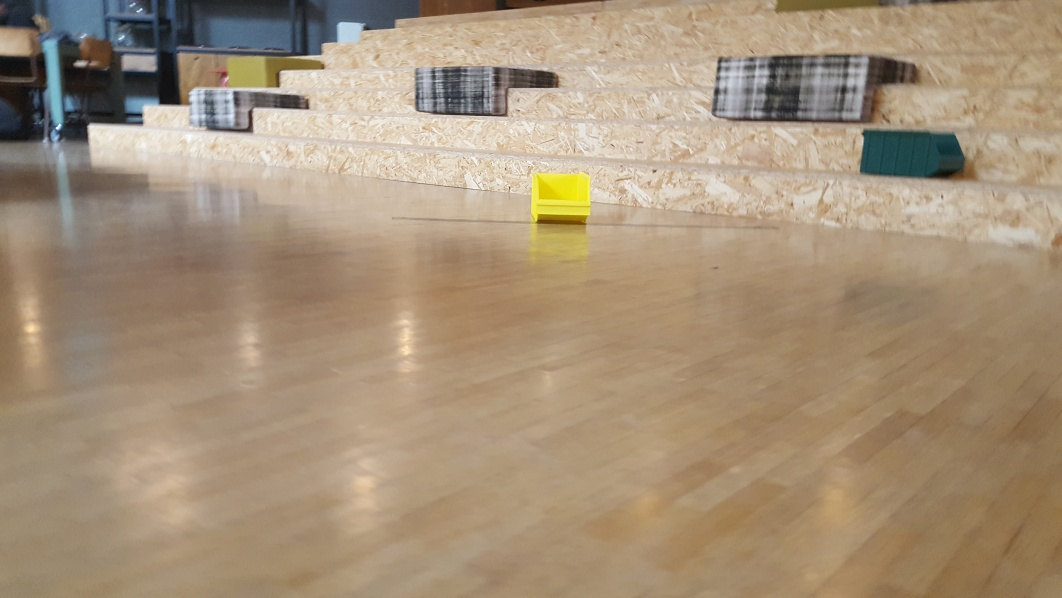tray: (855, 128, 967, 178), (528, 171, 592, 223)
